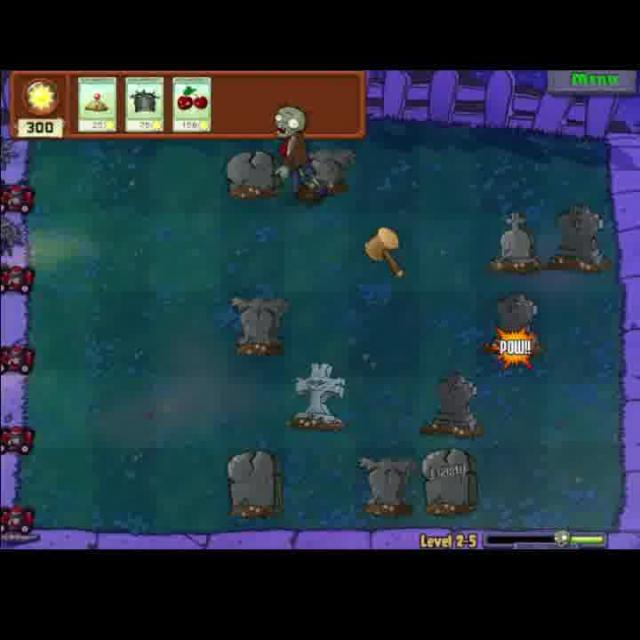coins: (268, 102, 326, 202)
